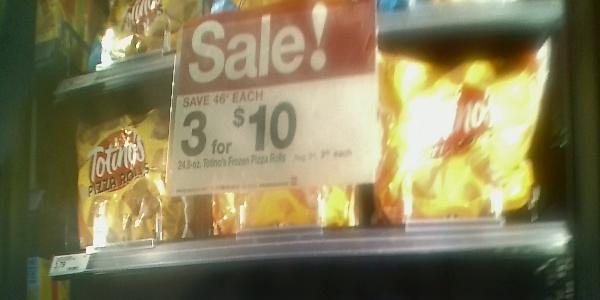icecream: (372, 36, 549, 221), (210, 42, 369, 237), (73, 114, 203, 246)
